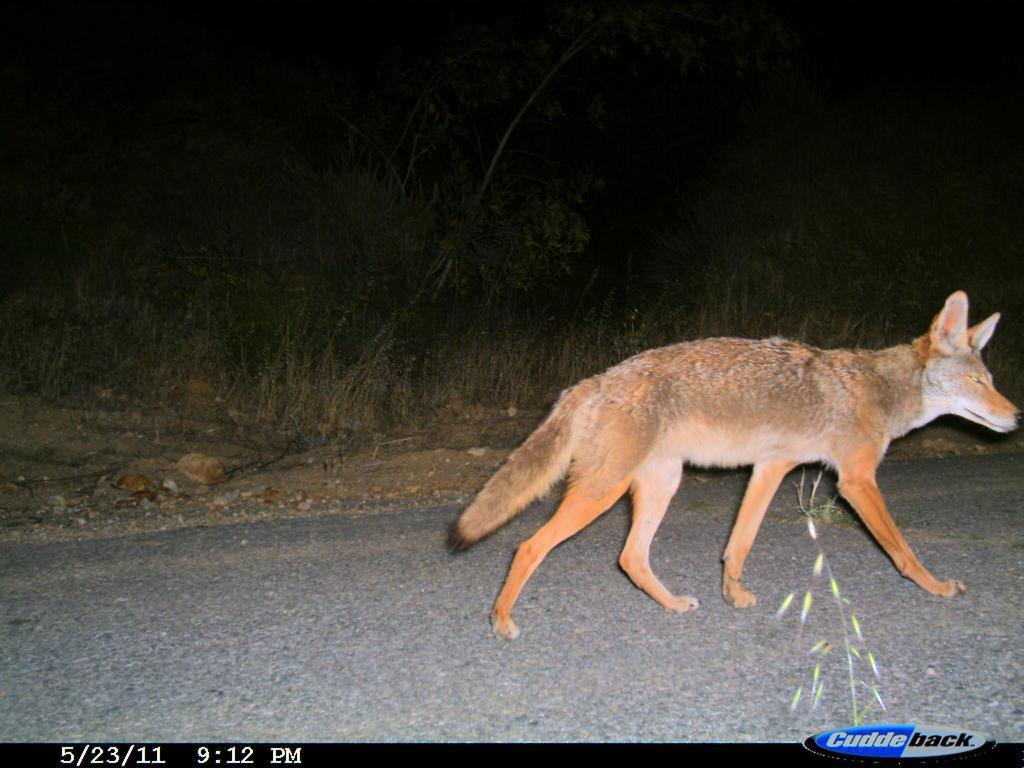coyote: (464, 274, 1021, 671)
